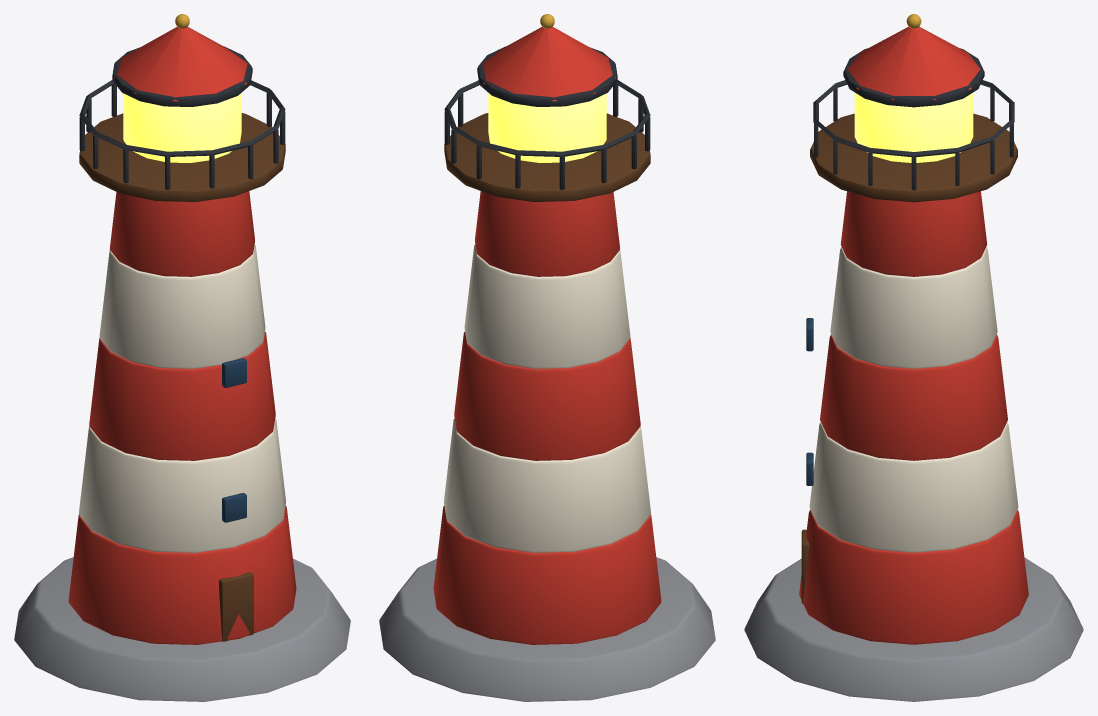
File: Lighthouse.glb
3 views of the same model, side by side, from view 1: azimuth 30°, elevation 25°; view 2: azimuth 150°, elevation 25°; view 3: azimuth 270°, elevation 25° (orthographic).
Parts seen in each view (by area): view 1: Lighthouse; view 2: Lighthouse; view 3: Lighthouse.
Boxes of the visible parts, left/top/right/bottom form: Lighthouse: left=14, top=14, right=350, bottom=701; Lighthouse: left=379, top=14, right=715, bottom=701; Lighthouse: left=744, top=14, right=1083, bottom=701.
Size of the model in its own units: 4.56 by 9.15 by 4.56.
